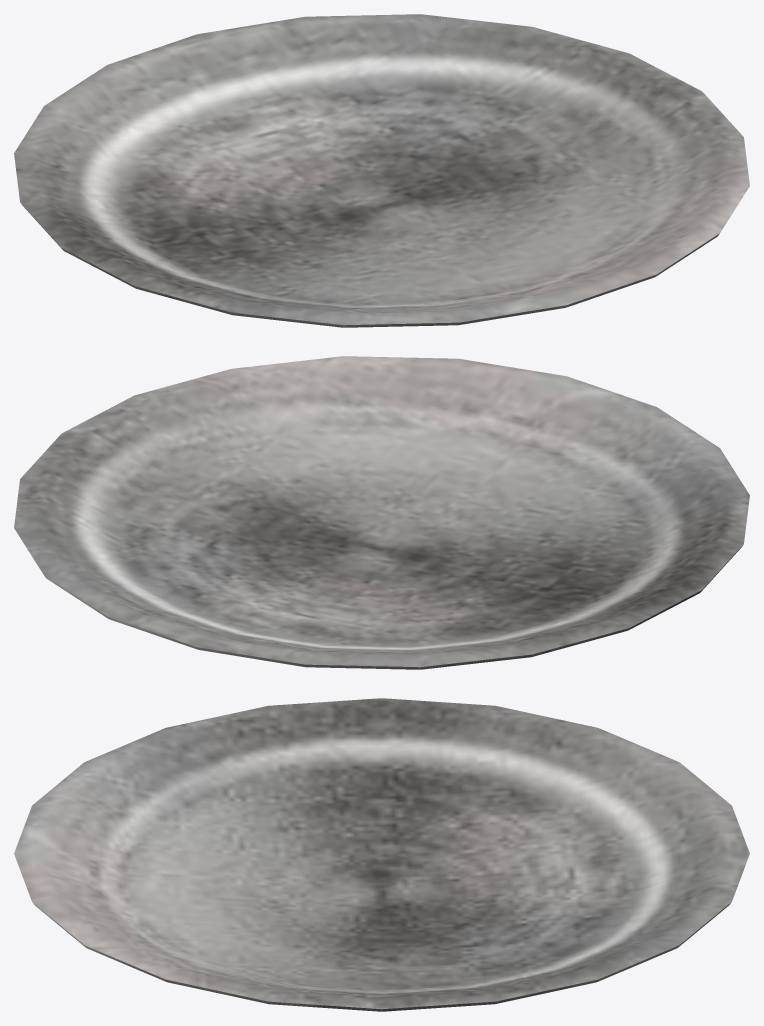
File: Plate.fbx
3 renders of one model, top to bottom at view 1: azimuth 30°, elevation 25°; view 2: azimuth 150°, elevation 25°; view 3: azimuth 270°, elevation 25°, orthographic.
Parts seen in each view (by area): view 1: pCylinder1; view 2: pCylinder1; view 3: pCylinder1.
Boxes of the visible parts, left/top/right/bottom form: pCylinder1: left=14, top=14, right=749, bottom=327; pCylinder1: left=14, top=356, right=749, bottom=669; pCylinder1: left=14, top=698, right=749, bottom=1011.
Bounding box in the file's own units: 7428 × 733 × 7428.
